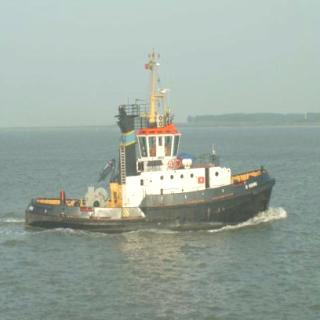Tug Boat: (32, 44, 280, 225)
